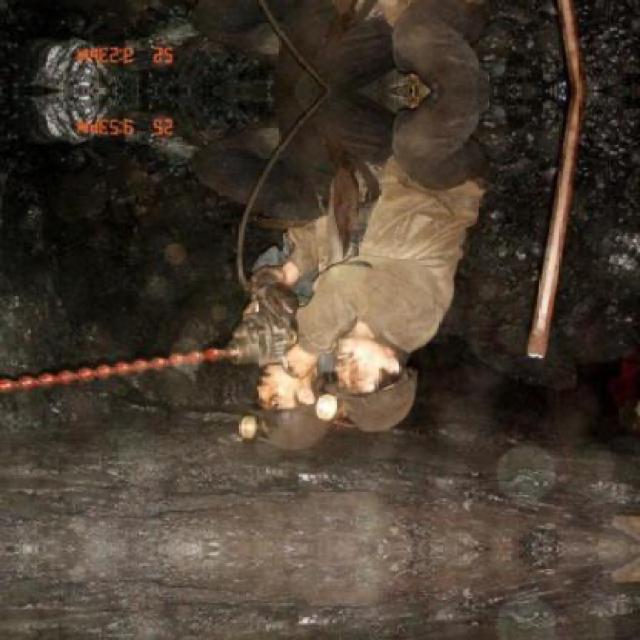con casco: (222, 335, 416, 456)
